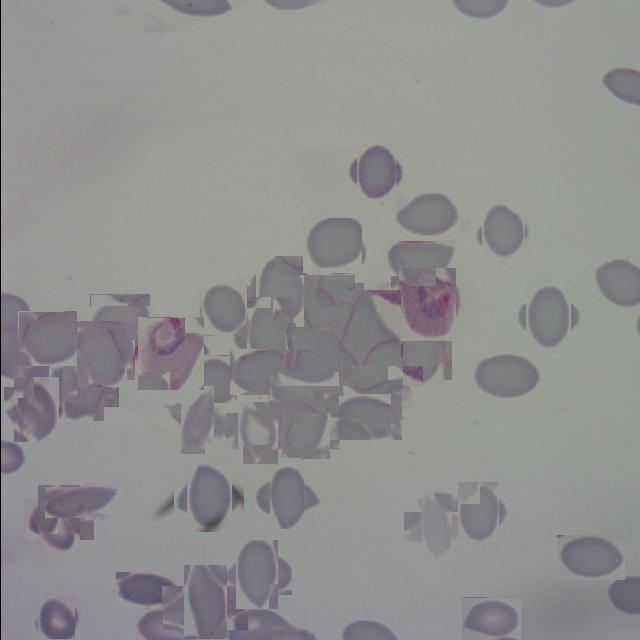leukocyte: (335, 293, 404, 362), (172, 575, 236, 640), (239, 303, 299, 363), (299, 278, 359, 338), (288, 331, 348, 391), (250, 260, 310, 319), (274, 395, 334, 454), (327, 393, 401, 440), (179, 468, 237, 526), (390, 326, 448, 384), (72, 326, 130, 384), (470, 353, 541, 400), (302, 218, 361, 273), (17, 311, 76, 366), (393, 191, 460, 238), (520, 289, 576, 345), (228, 546, 284, 602), (30, 491, 86, 547), (8, 382, 64, 437), (556, 535, 624, 580), (56, 358, 110, 414), (229, 349, 294, 395), (268, 372, 338, 414), (342, 344, 402, 392), (89, 294, 149, 340), (386, 241, 454, 281), (170, 394, 222, 446), (452, 487, 503, 539), (230, 408, 282, 459), (478, 206, 528, 258), (460, 597, 520, 640), (198, 284, 248, 334), (412, 503, 460, 552), (116, 572, 180, 608), (262, 474, 310, 522), (188, 356, 236, 404), (44, 487, 117, 518), (352, 148, 398, 196), (33, 598, 77, 640)
schizont: (134, 318, 204, 388), (394, 272, 459, 338)
